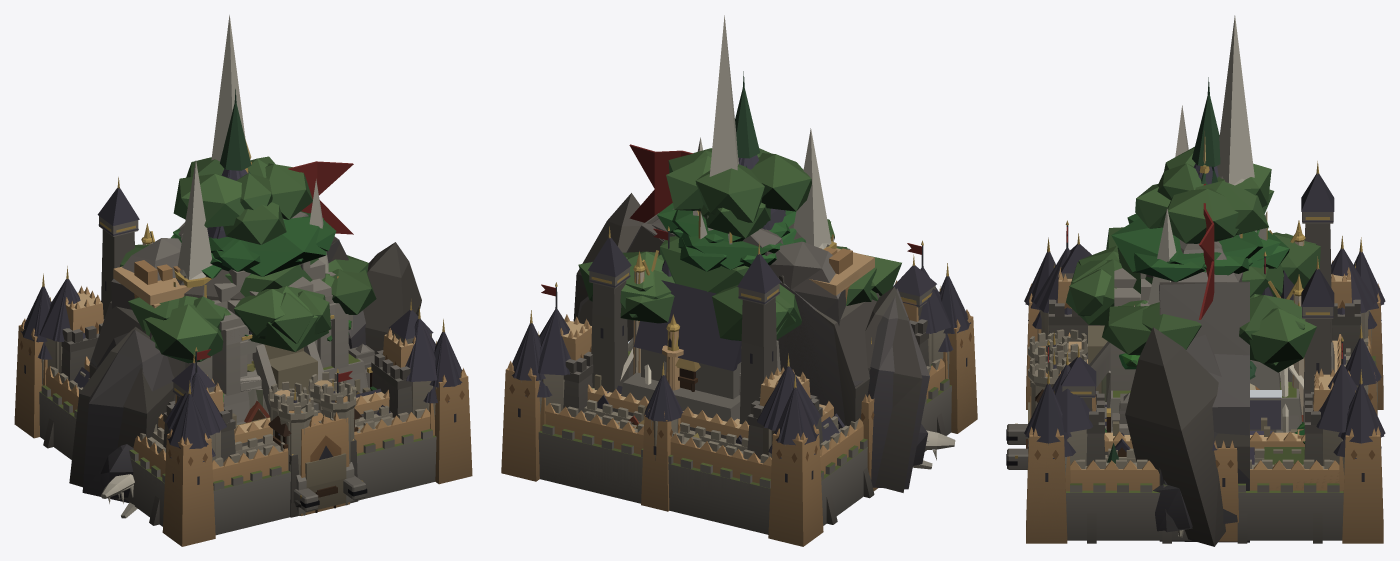
The model's file is world-props.glb.
3 views of the same model, side by side, from view 1: azimuth 30°, elevation 25°; view 2: azimuth 150°, elevation 25°; view 3: azimuth 270°, elevation 25° (orthographic). The views are drawn at different scales.
Parts seen in each view (by area): view 1: city-desert, elderoak-1, dwarfgate-1, dwarfgate-1_lo, city-marsh_lo, castle-temperate, city-temperate, elfspire-1_lo, city-north, castle-north, city-marsh, castle-desert (+14 smaller); view 2: city-desert, city-north, dwarfgate-1_lo, dwarfgate-1, elderoak-1, city-marsh, city-north_lo, castle-temperate, city-temperate, elderoak-1_lo, city-marsh_lo, elfspire-1_lo (+15 smaller); view 3: city-desert, elderoak-1, dwarfgate-1_lo, dwarfgate-1, city-north, city-marsh_lo, city-temperate, castle-temperate, elderoak-1_lo, elfspire-1_lo, castle-north, castle-desert (+14 smaller).
Boxes of the visible parts, x1,y1,x2,y2 form: city-desert: (14, 237, 472, 546); elderoak-1: (120, 156, 376, 363); dwarfgate-1: (82, 211, 374, 507); dwarfgate-1_lo: (69, 237, 421, 487); city-marsh_lo: (39, 392, 436, 535); castle-temperate: (39, 266, 437, 458); city-temperate: (22, 273, 462, 515); elfspire-1_lo: (177, 15, 328, 279); city-north: (43, 177, 433, 525); castle-north: (61, 319, 412, 462); city-marsh: (39, 385, 435, 517); castle-desert: (65, 286, 415, 443); city-desert: (501, 265, 977, 546); city-north: (588, 226, 946, 524); dwarfgate-1_lo: (573, 193, 922, 492); dwarfgate-1: (577, 208, 929, 489); elderoak-1: (578, 148, 901, 331); city-marsh: (539, 379, 951, 534); city-north_lo: (589, 275, 927, 424); castle-temperate: (538, 226, 951, 456); city-temperate: (512, 263, 969, 463); elderoak-1_lo: (622, 236, 880, 340); city-marsh_lo: (538, 432, 842, 523); elfspire-1_lo: (697, 15, 831, 247); city-desert: (1026, 234, 1383, 543); elderoak-1: (1069, 146, 1316, 372); dwarfgate-1_lo: (1120, 273, 1249, 546); dwarfgate-1: (1106, 237, 1249, 542); city-north: (1061, 161, 1334, 543); city-marsh_lo: (1066, 493, 1343, 540); city-temperate: (1024, 237, 1385, 468); castle-temperate: (1033, 220, 1375, 466); elderoak-1_lo: (1066, 232, 1320, 365); elfspire-1_lo: (1148, 15, 1254, 304); castle-north: (1048, 299, 1360, 465); castle-desert: (1057, 260, 1351, 451).
Bounding box in the file's own units: 1.12 × 1.37 × 1.01.
